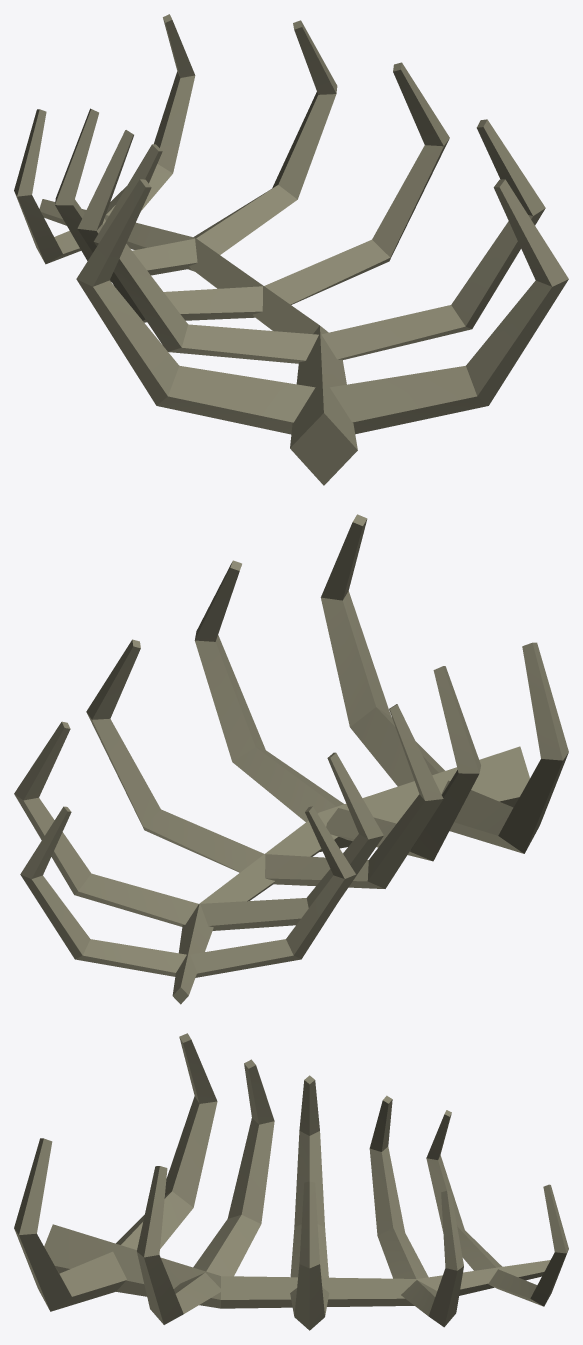
The model's file is drySmall_skullC.FBX.
3 renders of one model, top to bottom at view 1: azimuth 30°, elevation 25°; view 2: azimuth 150°, elevation 25°; view 3: azimuth 270°, elevation 25°, orthographic. The views are drawn at different scales.
Visible parts, largest first — view 1: drySmall_skullC; view 2: drySmall_skullC; view 3: drySmall_skullC.
Part boxes in pixels (x1,y1,x2,y2): drySmall_skullC: (14,14,568,485); drySmall_skullC: (14,514,568,1004); drySmall_skullC: (14,1033,568,1330).
Bounding box in the file's own units: 194 × 114 × 273.
